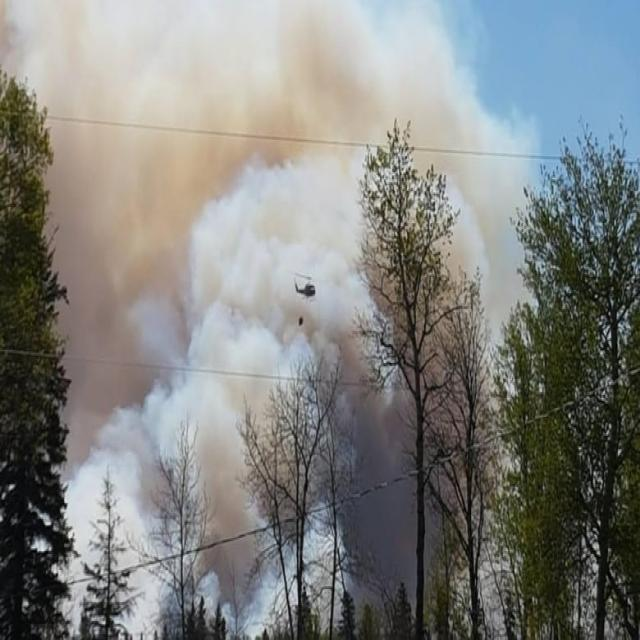Smoke: (53, 157, 259, 630), (7, 5, 476, 149), (262, 168, 365, 364), (460, 152, 520, 309), (346, 481, 416, 597)
